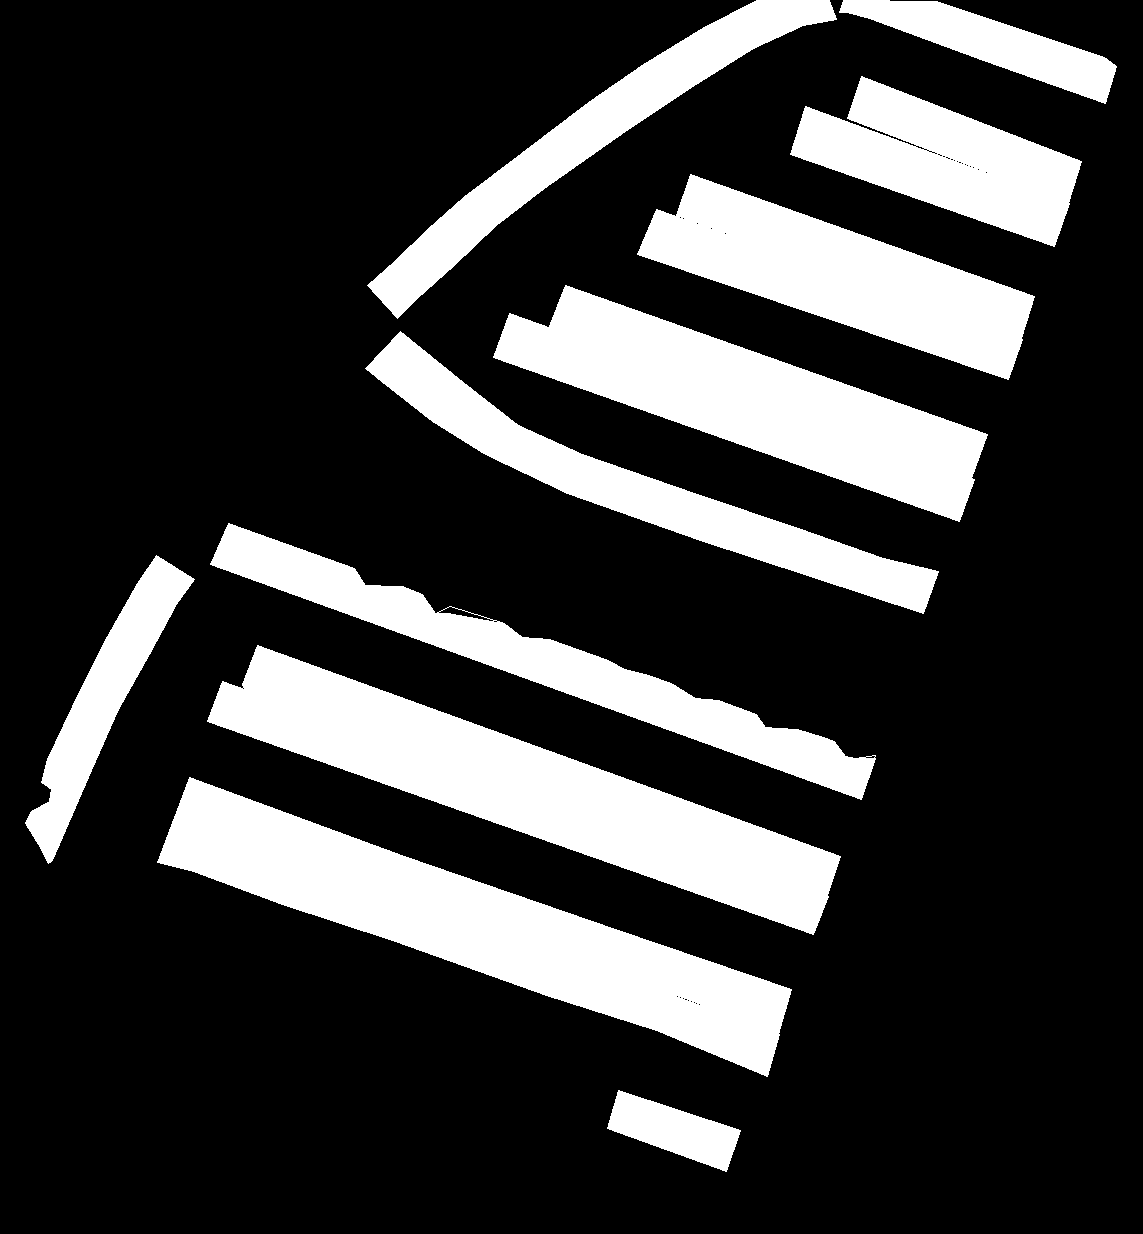parkingspot: (210, 523, 875, 799), (365, 331, 938, 613), (157, 817, 778, 1076), (173, 777, 791, 1034), (208, 681, 828, 934), (242, 645, 840, 898), (367, 0, 835, 318), (492, 313, 974, 521), (548, 285, 987, 478), (637, 209, 1021, 379), (676, 174, 1034, 338), (25, 555, 194, 863), (790, 106, 1069, 246), (847, 76, 1081, 203), (839, 0, 1116, 103), (608, 1090, 740, 1171)
